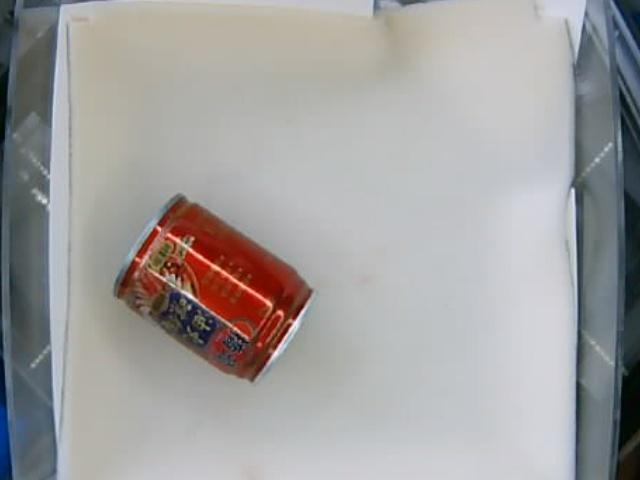Bottle: (110, 194, 318, 383)
